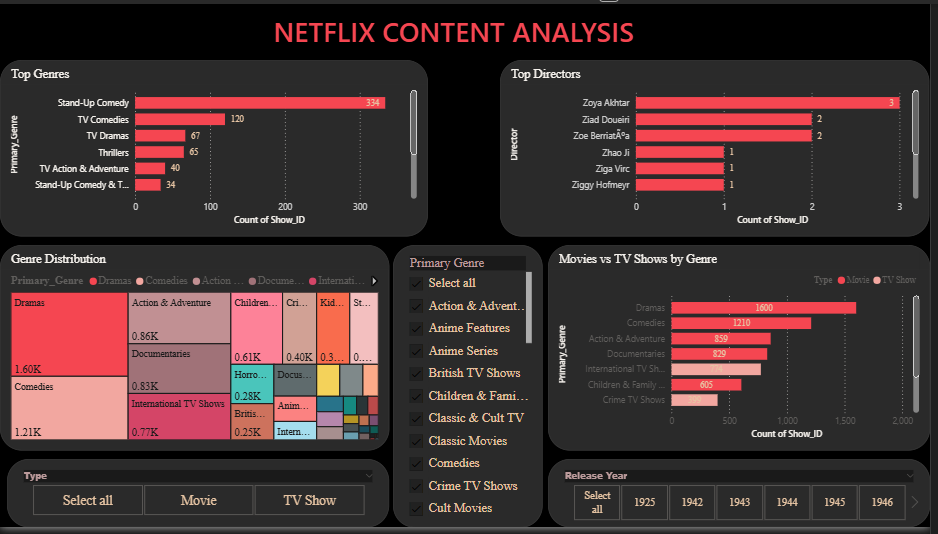

The page's visual inventory and layout, read from the dashboard file:
{"tool":"powerbi","page":{"name":"Content Analysis","canvas":[1280,720],"ordinal":1},"visuals":[{"type":"clusteredBarChart","title":"Top Genres","fields":{"Category":["netflix_titles (Autosaved).Primary_Genre"],"Y":["CountNonNull(netflix_titles (Autosaved).Show_ID)"]},"box":[0,77.1,588.6,242.9],"z":0},{"type":"barChart","title":"Movies vs TV Shows by Genre","fields":{"Category":["netflix_titles (Autosaved).Primary_Genre"],"Y":["CountNonNull(netflix_titles (Autosaved).Show_ID)"],"Series":["netflix_titles (Autosaved).Type"]},"box":[754.3,331.4,525.7,282.9],"z":1000},{"type":"clusteredBarChart","title":"Top Directors","fields":{"Category":["netflix_titles (Autosaved).Director"],"Y":["CountNonNull(netflix_titles (Autosaved).Show_ID)"]},"box":[688.6,77.1,591.4,242.9],"z":2000},{"type":"treemap","title":"Genre Distribution","fields":{"Group":["netflix_titles (Autosaved).Primary_Genre"],"Values":["CountNonNull(netflix_titles (Autosaved).Show_ID)"]},"box":[0,331.4,535.7,282.9],"z":3000},{"type":"slicer","fields":{"Values":["netflix_titles (Autosaved).Primary_Genre"]},"box":[541.4,331.4,205.7,388.6],"z":4000},{"type":"slicer","fields":{"Values":["netflix_titles (Autosaved).Type"]},"box":[10,625.7,525.7,94.3],"z":5000},{"type":"slicer","fields":{"Values":["netflix_titles (Autosaved).Release_Year"]},"box":[754.3,625.7,525.7,94.3],"z":6000},{"type":"textbox","box":[147.1,7.1,954.3,80],"z":7000}]}

Visuals, with their boxes in screenshot pixels (x1, y1, x2, y2), scaled from the page's 1280x720 canvas onto the 938x534 screenshot:
"Top Genres" clusteredBarChart: bbox=(0, 57, 431, 237)
"Movies vs TV Shows by Genre" barChart: bbox=(553, 246, 937, 456)
"Top Directors" clusteredBarChart: bbox=(505, 57, 937, 237)
"Genre Distribution" treemap: bbox=(0, 246, 393, 456)
slicer - netflix_titles (Autosaved).Primary_Genre: bbox=(397, 246, 547, 533)
slicer - netflix_titles (Autosaved).Type: bbox=(7, 464, 393, 533)
slicer - netflix_titles (Autosaved).Release_Year: bbox=(553, 464, 937, 533)
textbox: bbox=(108, 5, 807, 65)
